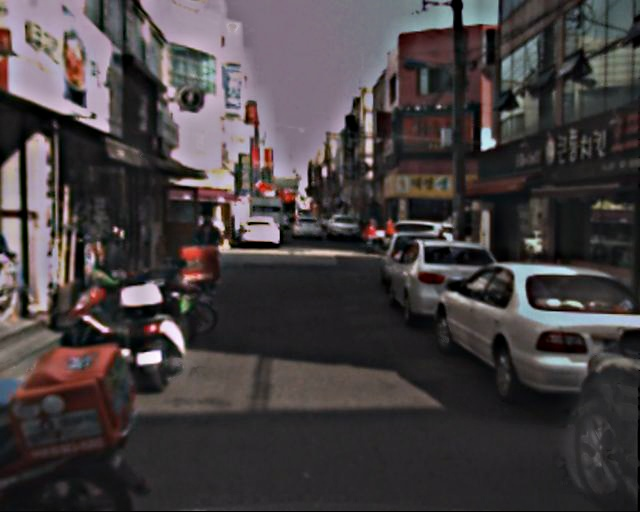person: (192, 208, 230, 301), (383, 216, 399, 256), (365, 217, 379, 250)
